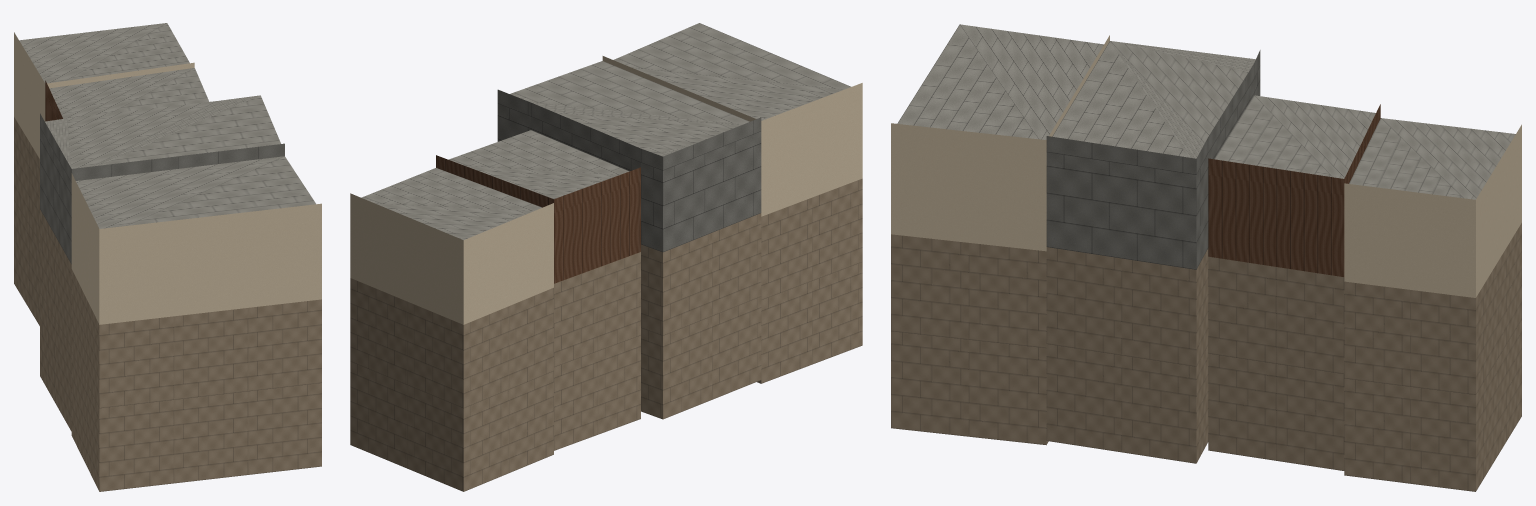
File: bld_c37_-13_535.gltf
3 renders of one model, left to right at view 1: azimuth 30°, elevation 25°; view 2: azimuth 150°, elevation 25°; view 3: azimuth 270°, elevation 25°, orthographic. The views are drawn at different scales.
Visible parts, largest first — view 1: bld_c37_-13_535; view 2: bld_c37_-13_535; view 3: bld_c37_-13_535.
Boxes of the visible parts, x1,y1,x2,y2 form: bld_c37_-13_535: (14, 23, 321, 491); bld_c37_-13_535: (350, 23, 862, 491); bld_c37_-13_535: (891, 24, 1521, 491).
Bounding box in the file's own units: 8.18 × 7.38 × 13.27.
8 materials, 8 textured.
